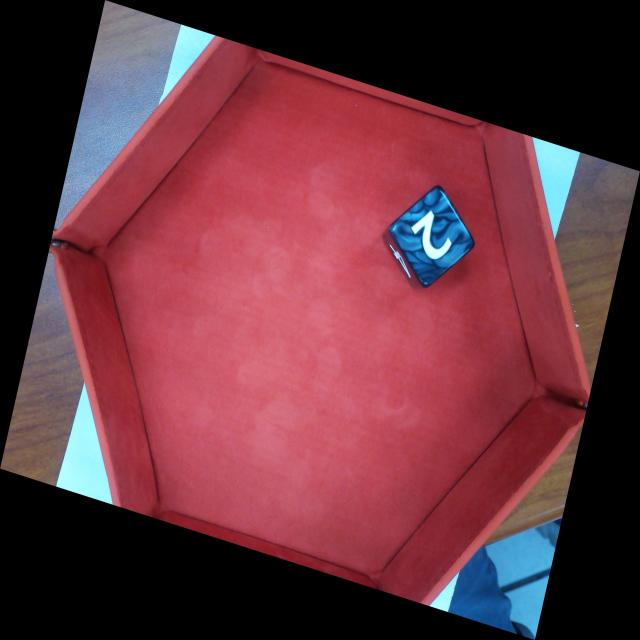dice: (387, 185, 476, 289)
